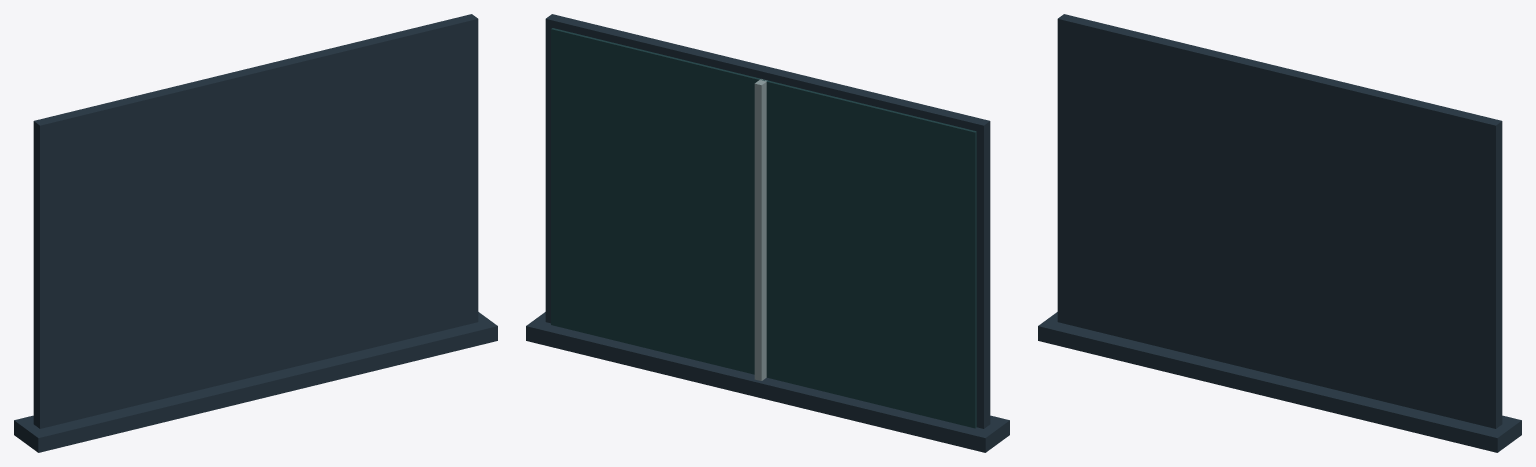
The model's file is horror_window.obj.
3 renders of one model, left to right at view 1: azimuth 30°, elevation 25°; view 2: azimuth 150°, elevation 25°; view 3: azimuth 330°, elevation 25°, orthographic.
Visible parts, largest first — view 1: GlassFrame, Sill; view 2: GlassFace, GlassFrame, Sill, Mullion; view 3: GlassFrame, Sill.
Boxes of the visible parts, bbox=[...] form: GlassFrame: bbox=[33, 14, 478, 428]; Sill: bbox=[14, 312, 497, 452]; GlassFace: bbox=[551, 28, 976, 428]; GlassFrame: bbox=[545, 14, 990, 428]; Sill: bbox=[526, 312, 1009, 452]; Mullion: bbox=[754, 79, 767, 380]; GlassFrame: bbox=[1057, 14, 1502, 428]; Sill: bbox=[1038, 312, 1521, 452].
Bounding box in the file's own units: 6.5 × 4.3 × 0.6.
